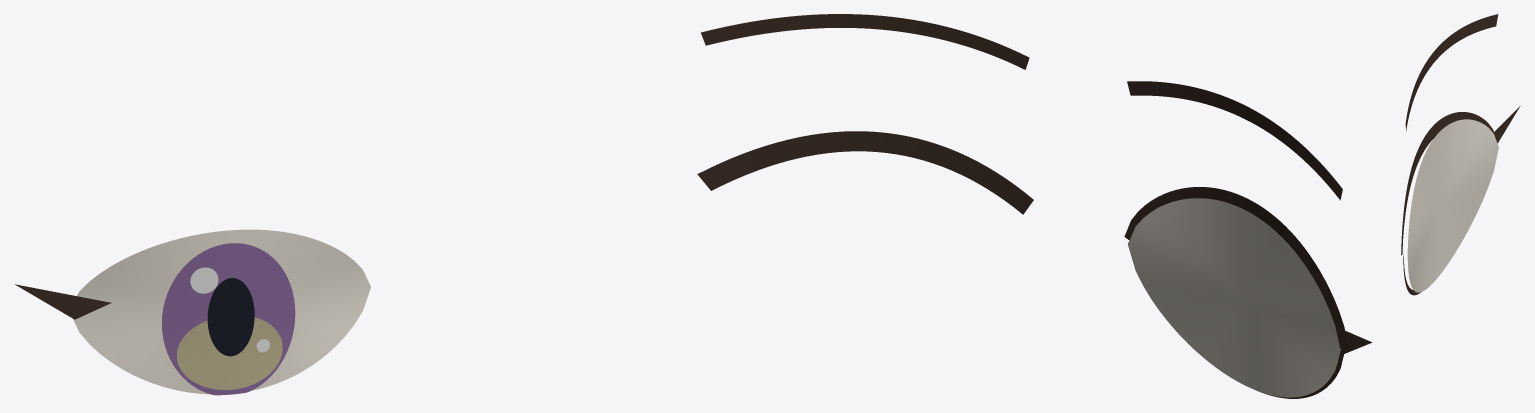
3 views of the same model, side by side, from view 1: azimuth 30°, elevation 25°; view 2: azimuth 150°, elevation 25°; view 3: azimuth 270°, elevation 25° (orthographic). The views are drawn at different scales.
Visible parts, largest first — view 1: Eye_White_-1, Eye_Iris_-1, Eye_Iris_Light_-1, Eye_Pupil_-1, Eye_LashWing_-1, Eye_Glint_-1_0; view 2: Eye_White_-1, Eye_Closed_1, Eyebrow_1, Eye_UpperLid_-1, Eyebrow_-1; view 3: Eye_White_-1, Eyebrow_-1, Eye_UpperLid_-1, Eye_LashWing_-1.
Boxes of the visible parts, x1,y1,x2,y2 form: Eye_White_-1: [73, 229, 370, 394]; Eye_Iris_-1: [162, 243, 295, 395]; Eye_Iris_Light_-1: [176, 317, 282, 390]; Eye_Pupil_-1: [207, 278, 254, 356]; Eye_LashWing_-1: [15, 284, 111, 319]; Eye_Glint_-1_0: [190, 267, 218, 293]; Eye_White_-1: [1128, 198, 1340, 397]; Eye_Closed_1: [697, 131, 1033, 214]; Eyebrow_1: [701, 14, 1029, 69]; Eye_UpperLid_-1: [1124, 187, 1348, 348]; Eyebrow_-1: [1127, 81, 1342, 200]; Eye_White_-1: [1407, 119, 1498, 292]; Eyebrow_-1: [1405, 14, 1498, 131]; Eye_UpperLid_-1: [1401, 112, 1497, 255]; Eye_LashWing_-1: [1493, 106, 1520, 143].
Bounding box in the file's own units: 0.3949 × 0.1544 × 0.0725.
